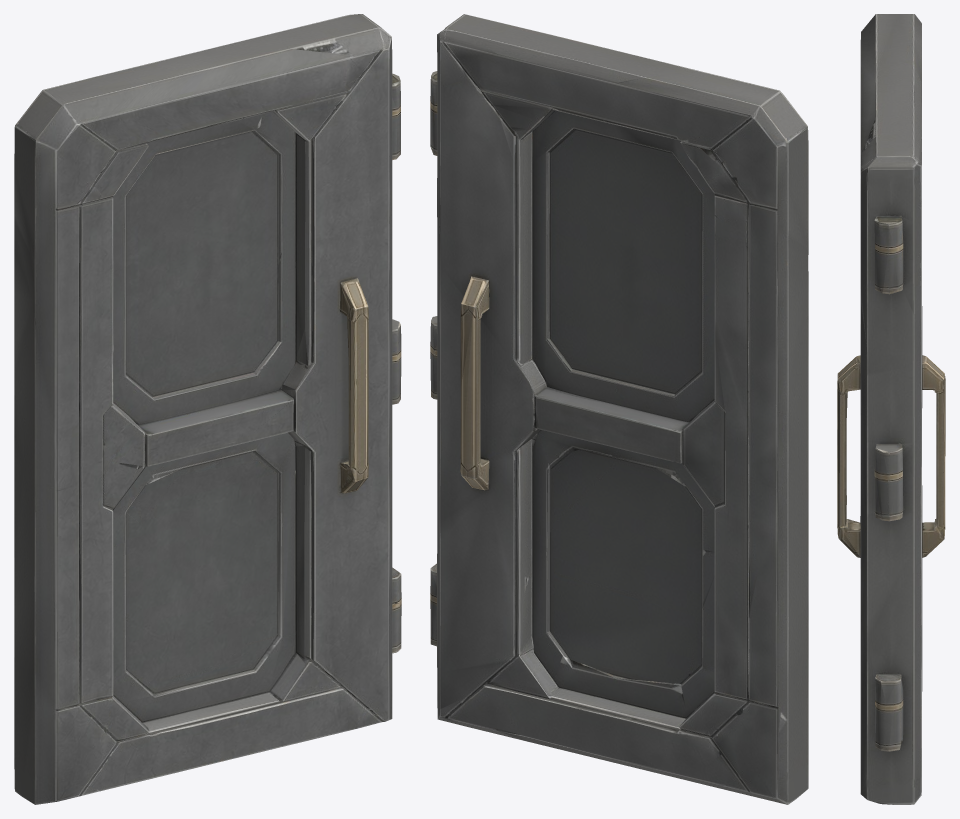
The model's file is imperial_governor_palace__entrance_door_leaf.glb.
3 renders of one model, left to right at view 1: azimuth 30°, elevation 25°; view 2: azimuth 150°, elevation 25°; view 3: azimuth 270°, elevation 25°, orthographic. The views are drawn at different scales.
Parts seen in each view (by area): view 1: mesh_node; view 2: mesh_node; view 3: mesh_node.
Part boxes in pixels (x1,y1,x2,y2): mesh_node: (14, 14, 401, 804); mesh_node: (430, 14, 808, 804); mesh_node: (837, 14, 945, 804).
Size of the model in its own units: 2.08 by 3.72 by 0.5656.
1 material, 1 textured.
